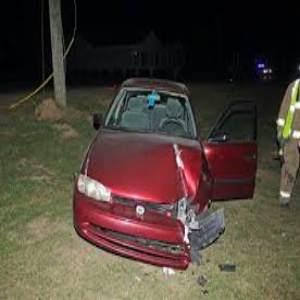bonnet: (135, 131, 201, 201)
bumper: (154, 207, 208, 273)
